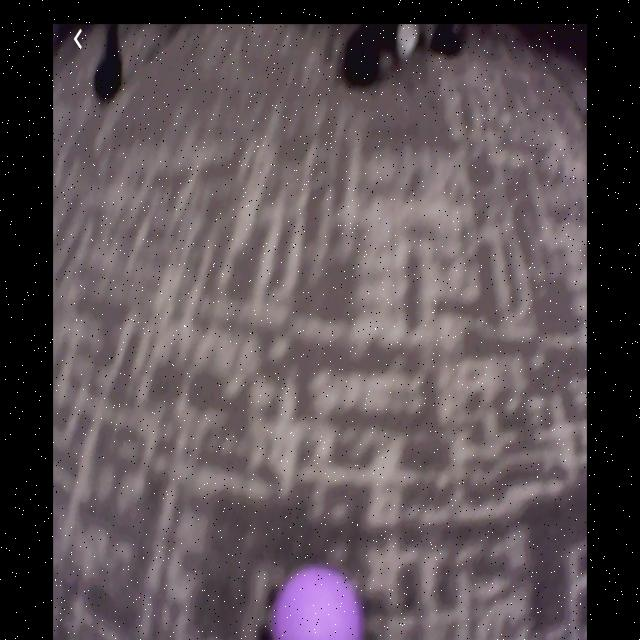ball: (269, 569, 364, 640)
